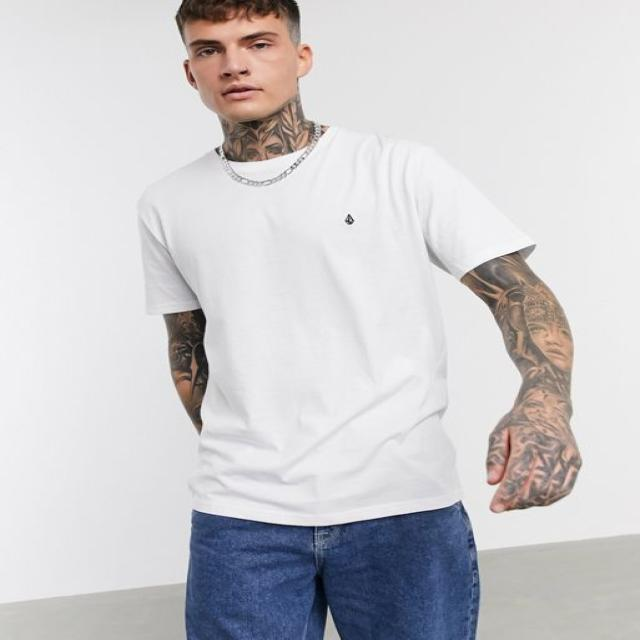tshirt: (135, 122, 536, 526)
